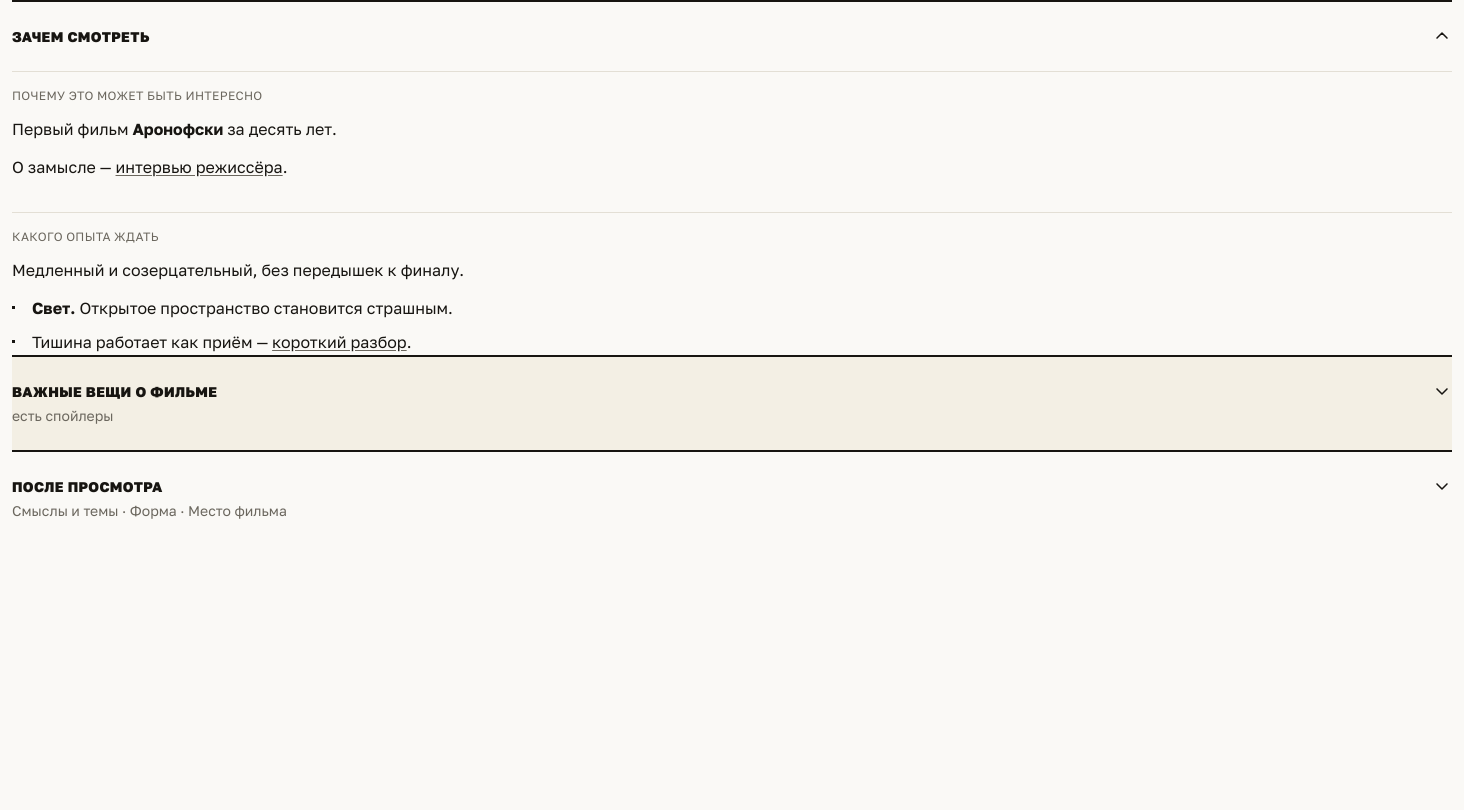
Пометка о спойлерах на свёрнутой полосе ключей (v15, критерий 6) › пометка исчезает и возвращается вместе со сворачиванием
The image size is (1464, 810).
Click the button "Важные вещи о фильме есть спойлеры" at (115, 392), box top-left (12, 377), bottom-right (1452, 426)
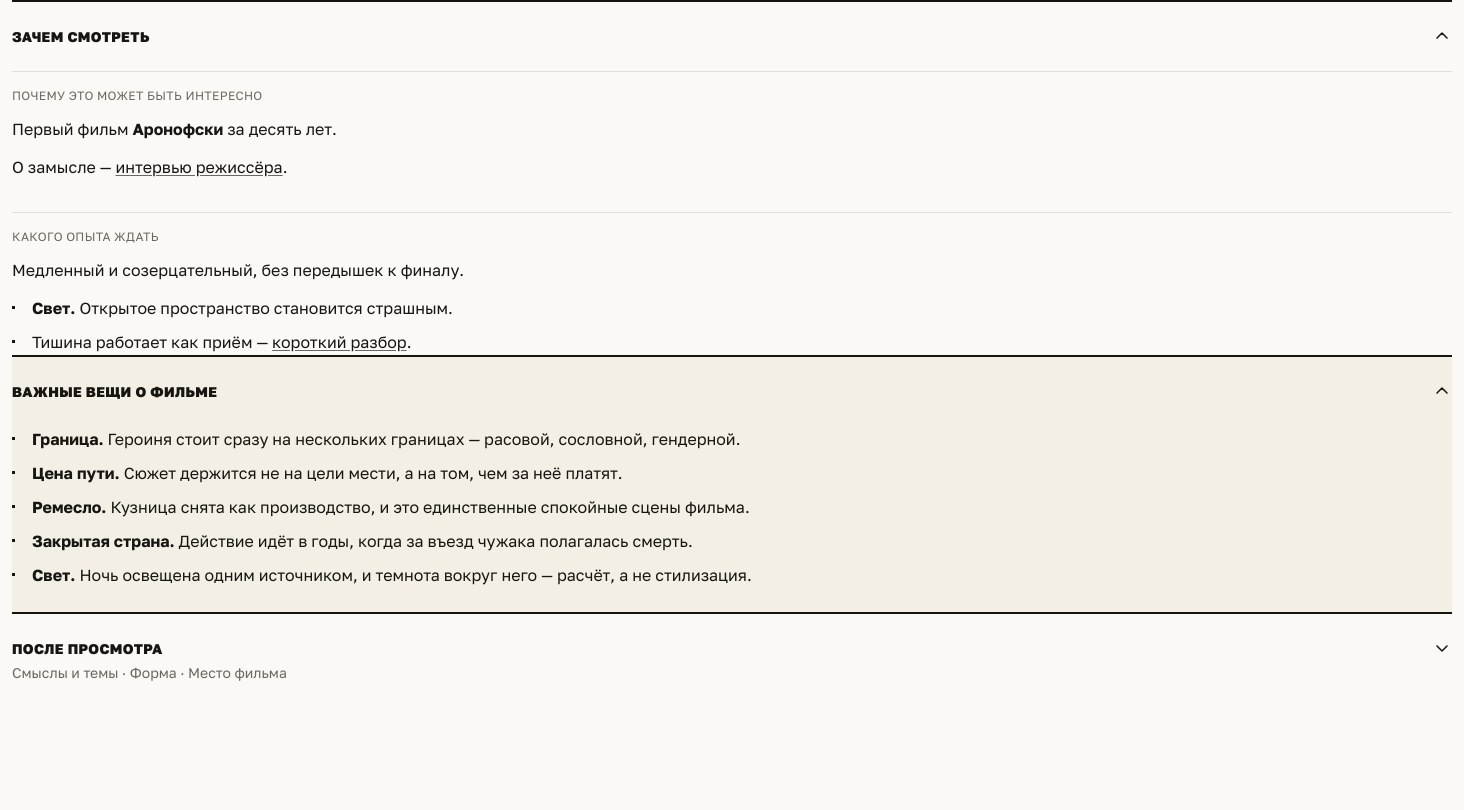
expect the text "есть спойлеры" is gone: met
Click the button "Важные вещи о фильме" at (115, 392), box top-left (12, 377), bottom-right (1452, 402)
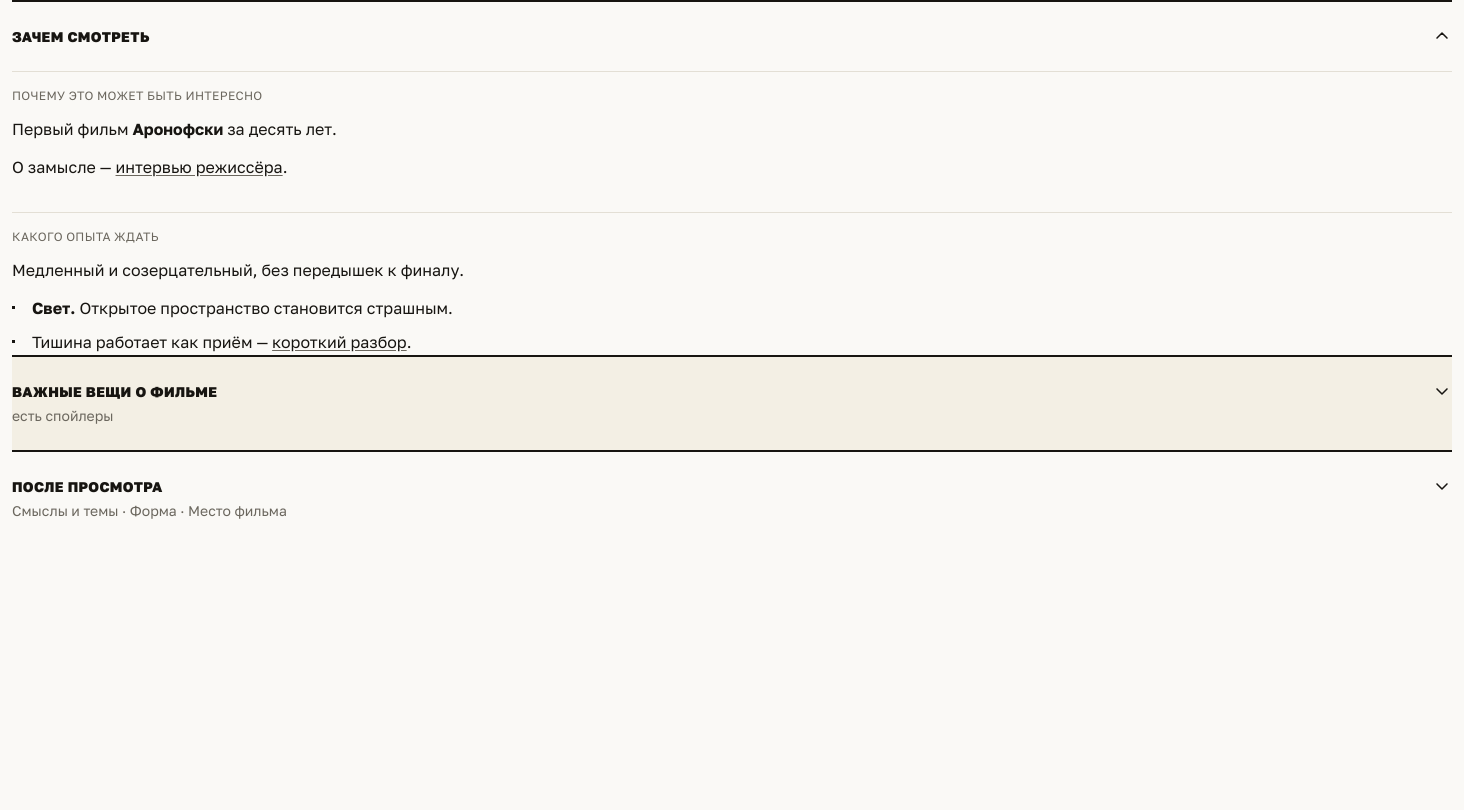
expect the text "есть спойлеры" is shown: met, box top-left (12, 407), bottom-right (114, 424)
